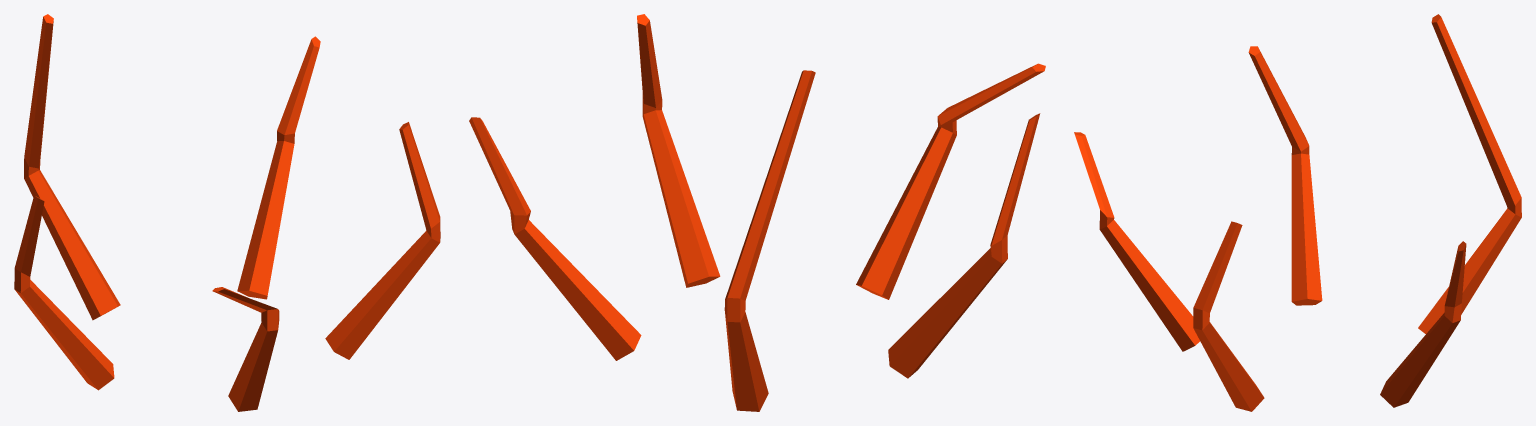
The model's file is interloper_detail.obj.
3 views of the same model, side by side, from view 1: azimuth 30°, elevation 25°; view 2: azimuth 150°, elevation 25°; view 3: azimuth 270°, elevation 25° (orthographic). The views are drawn at different scales.
Visible parts, largest first — view 1: InterloperStruts_Cylinder.016; view 2: InterloperStruts_Cylinder.016; view 3: InterloperStruts_Cylinder.016.
Boxes of the visible parts, bbox=[...] form: InterloperStruts_Cylinder.016: bbox=[14, 14, 440, 411]; InterloperStruts_Cylinder.016: bbox=[469, 14, 1045, 411]; InterloperStruts_Cylinder.016: bbox=[1074, 14, 1521, 411].
Size of the model in its own units: 10.38 by 7.91 by 10.68.
